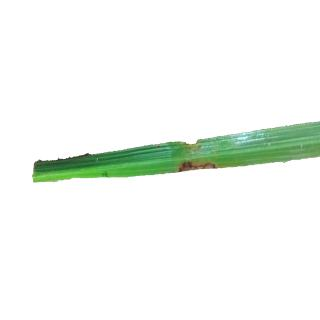Blast: (176, 156, 222, 170)
